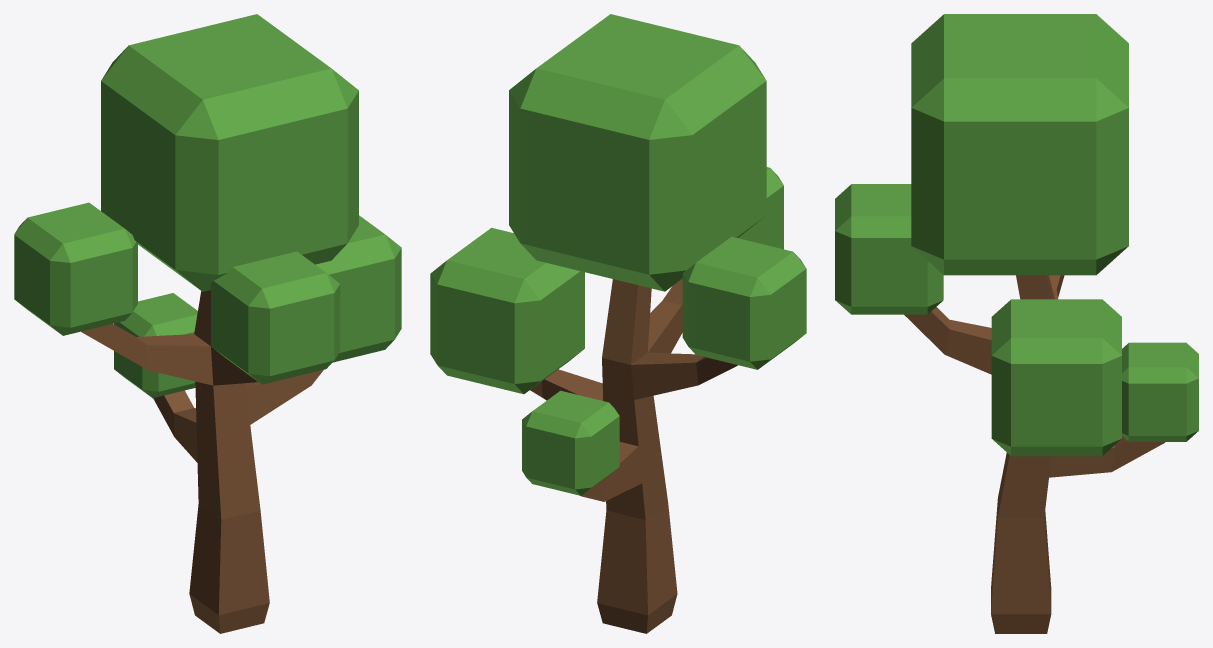
File: tree_detailed.glb
3 renders of one model, left to right at view 1: azimuth 30°, elevation 25°; view 2: azimuth 150°, elevation 25°; view 3: azimuth 270°, elevation 25°, orthographic. The views are drawn at different scales.
Parts seen in each view (by area): view 1: tree_detailed; view 2: tree_detailed; view 3: tree_detailed.
Boxes of the visible parts, x1=… form: tree_detailed: x1=14, y1=14, x2=401, y2=633; tree_detailed: x1=430, y1=14, x2=806, y2=633; tree_detailed: x1=835, y1=14, x2=1198, y2=633.
Size of the model in its own units: 0.8471 by 1.33 by 0.7616.
